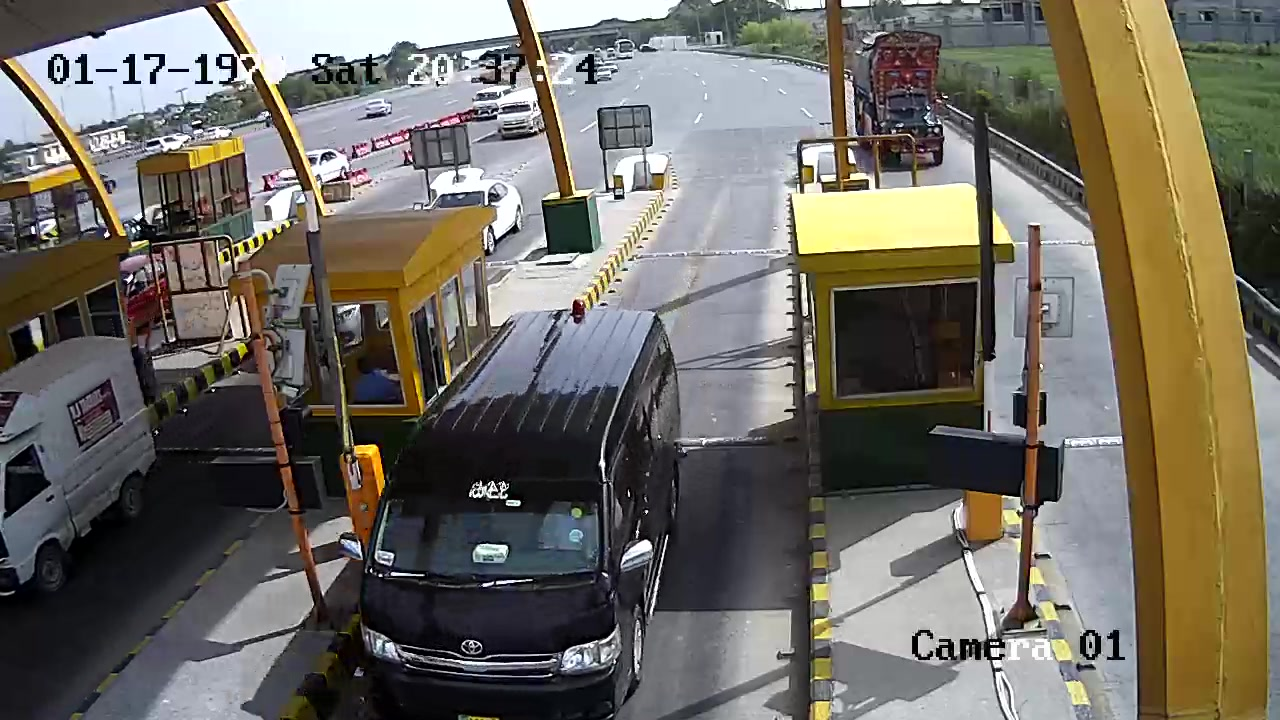F2: (335, 290, 690, 718)
